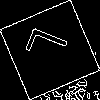L: (25, 25, 77, 68)
